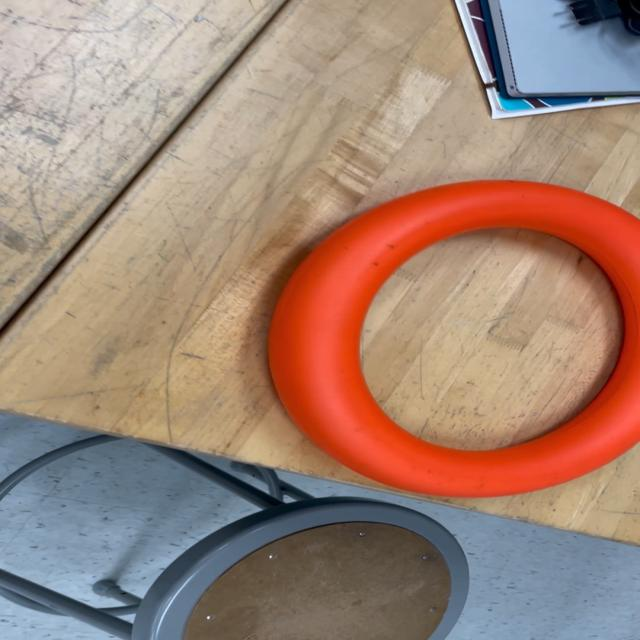note: (261, 178, 639, 494)
